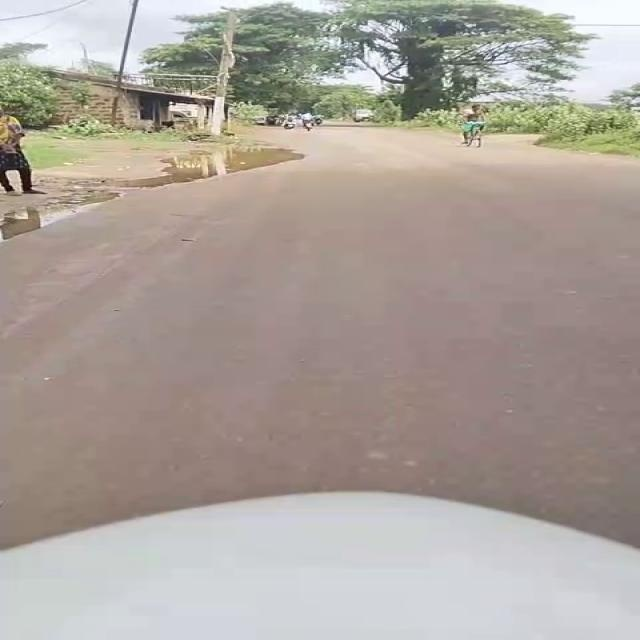pothole: (88, 142, 298, 189), (0, 189, 109, 238)
